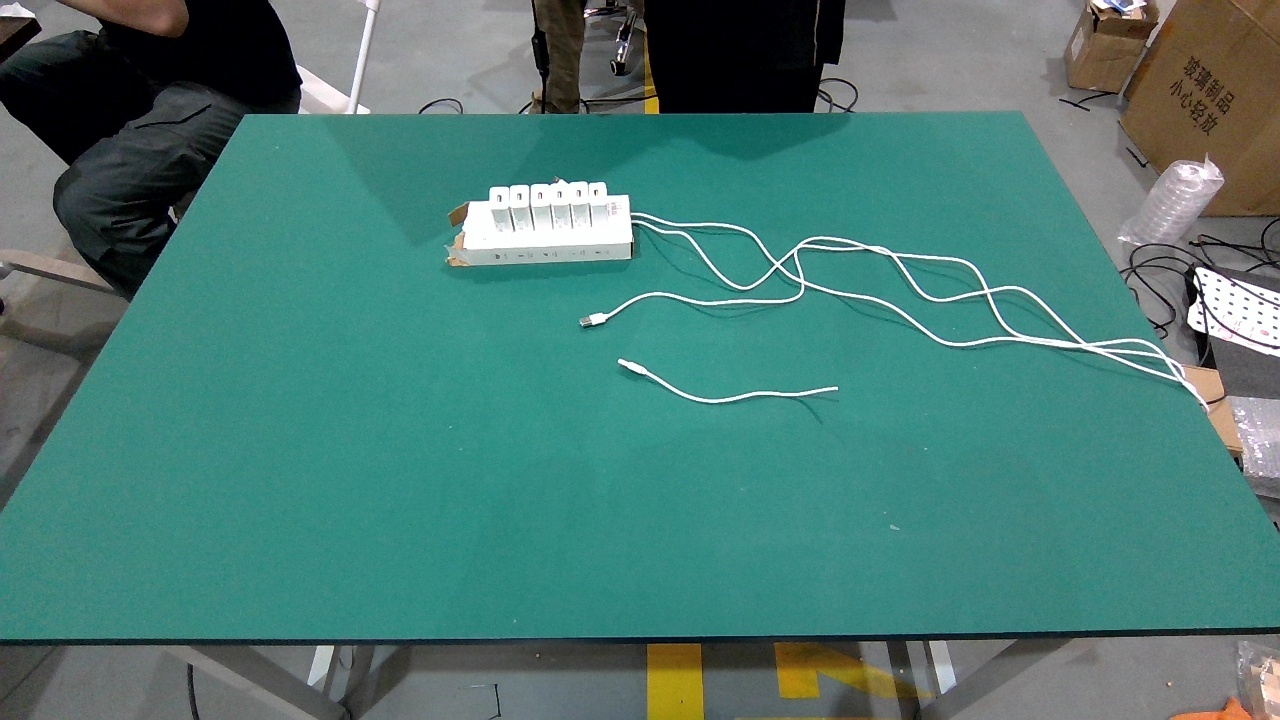usb_a_port: (515, 191, 524, 202), (495, 194, 504, 204), (574, 188, 583, 198), (536, 190, 544, 201), (555, 189, 563, 200), (592, 188, 600, 198)
